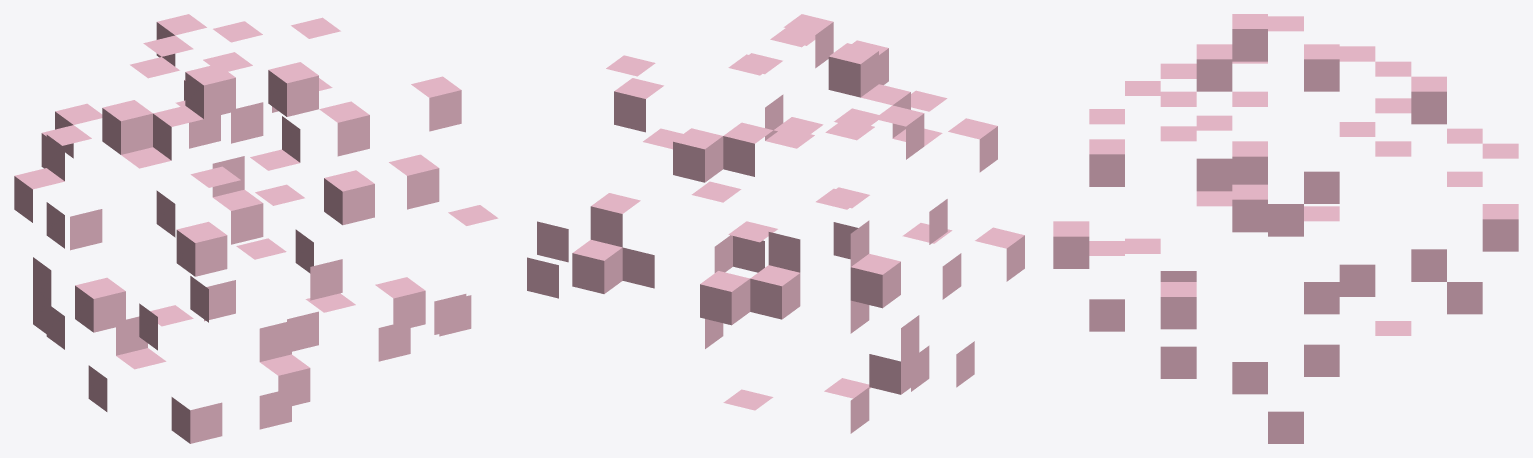
File: tree-cherry-0p9-pink1-ffc9dc.gltf
3 views of the same model, side by side, from view 1: azimuth 30°, elevation 25°; view 2: azimuth 150°, elevation 25°; view 3: azimuth 270°, elevation 25° (orthographic). The views are drawn at different scales.
Parts seen in each view (by area): view 1: tree-cherry-0p9-pink1-ffc9dc; view 2: tree-cherry-0p9-pink1-ffc9dc; view 3: tree-cherry-0p9-pink1-ffc9dc.
Boxes of the visible parts, left/top/right/bottom form: tree-cherry-0p9-pink1-ffc9dc: left=14, top=14, right=498, bottom=443; tree-cherry-0p9-pink1-ffc9dc: left=527, top=14, right=1024, bottom=433; tree-cherry-0p9-pink1-ffc9dc: left=1053, top=14, right=1518, bottom=443.
Bounding box in the file's own units: 13 × 10 × 13.
